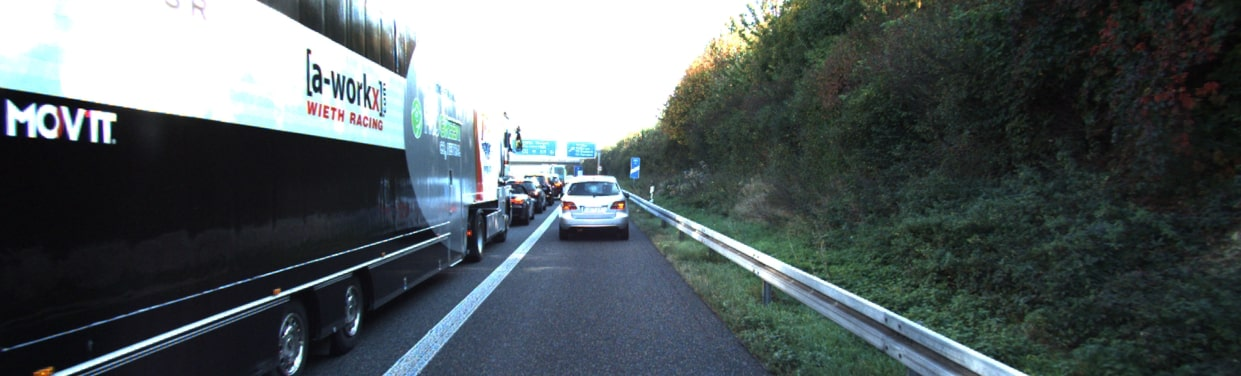car: (1, 1, 520, 370), (555, 173, 629, 238), (509, 174, 536, 220)
